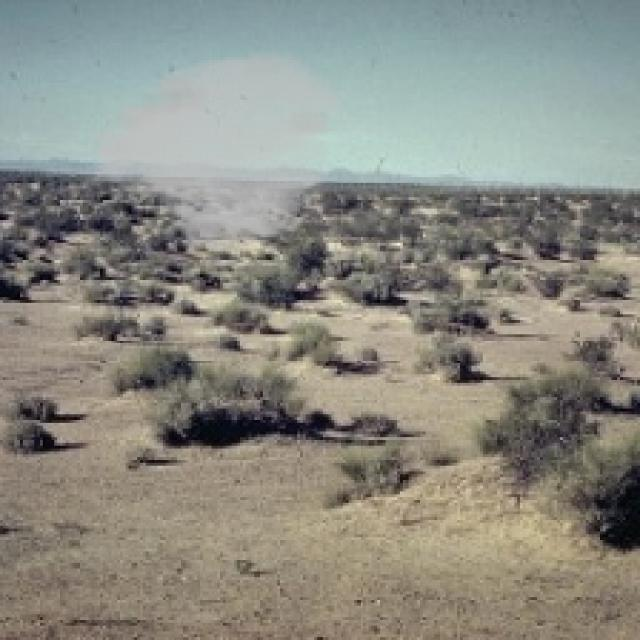smoke: (77, 49, 349, 254)
